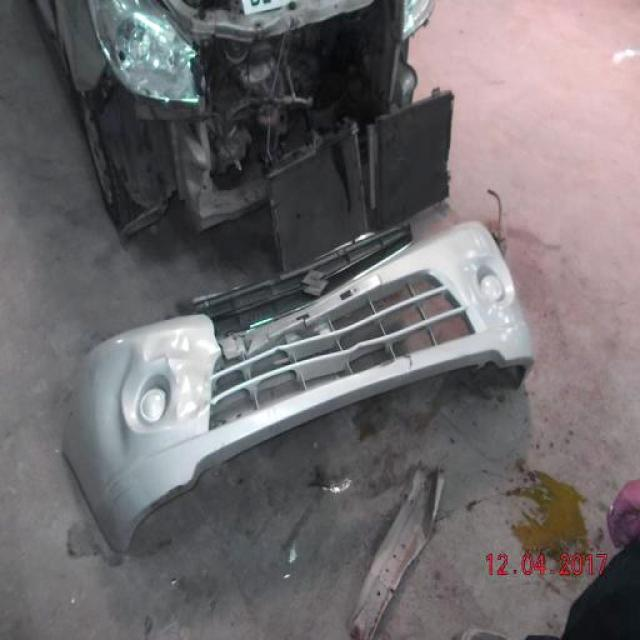car damage: (90, 1, 408, 218)
